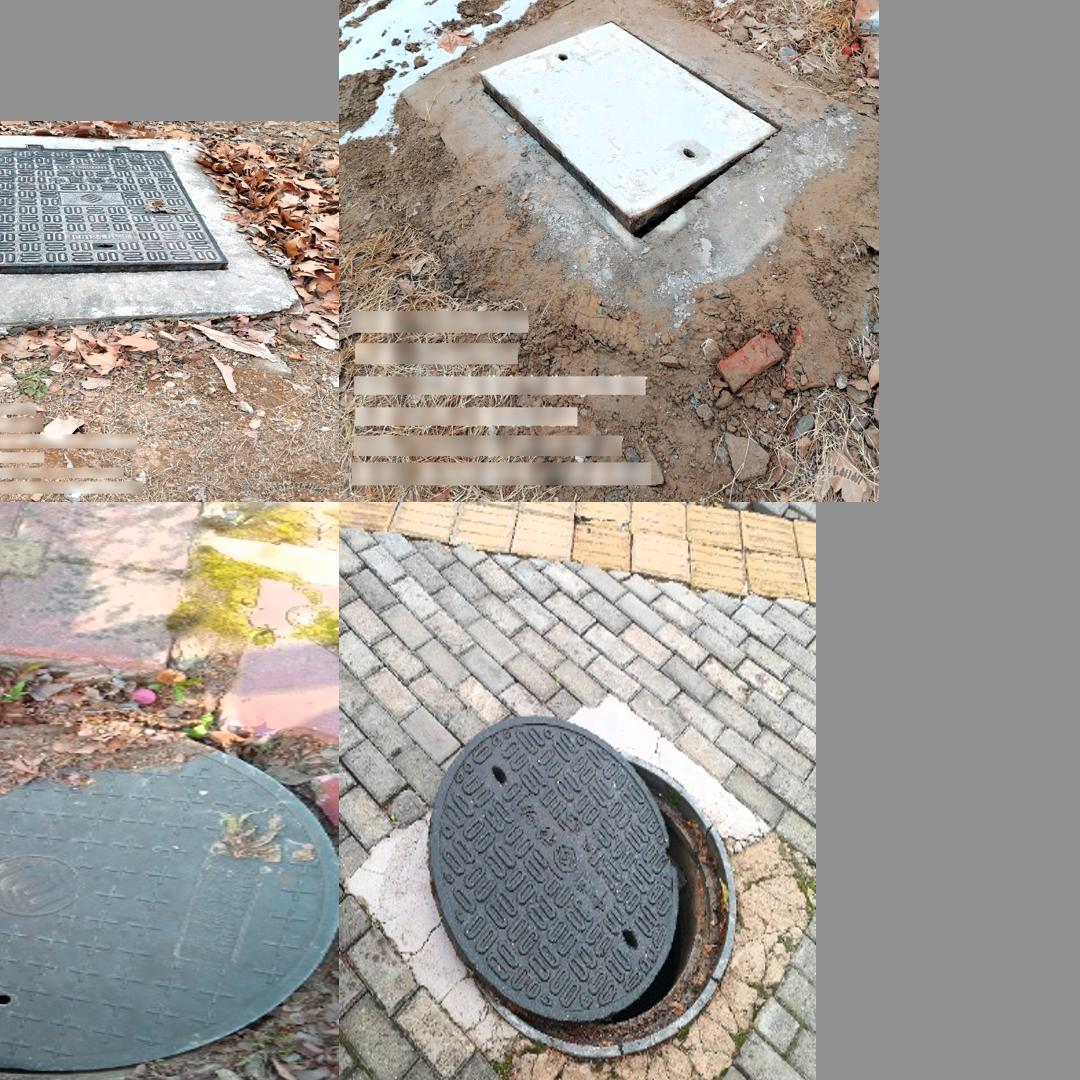uncovered: (0, 702, 339, 1080), (426, 717, 736, 1059), (472, 17, 797, 255), (0, 142, 230, 276)
